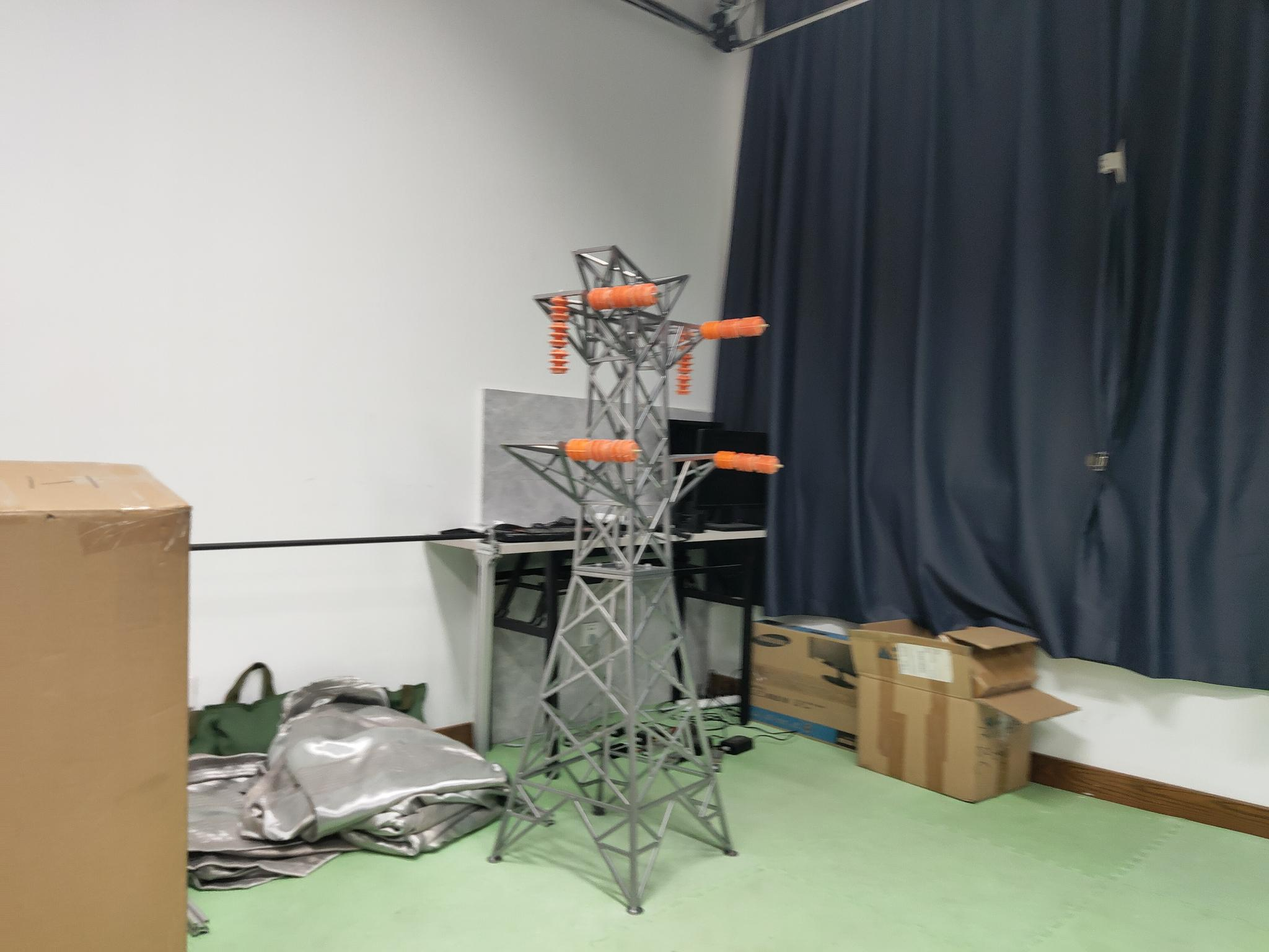tower: (494, 243, 736, 905)
